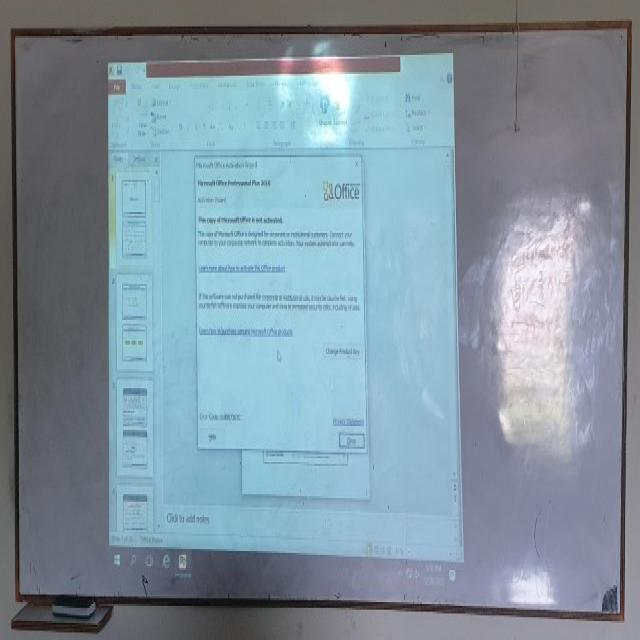Slide: (107, 50, 467, 593)
White-board: (12, 21, 629, 620)
